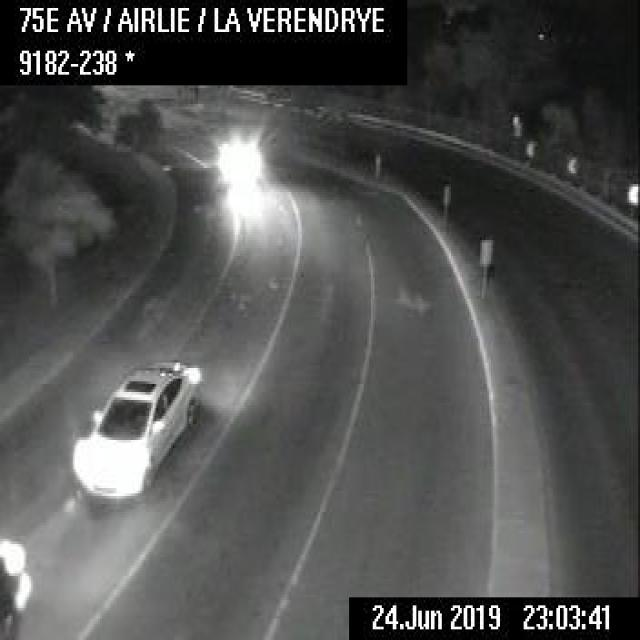vehicle: (66, 358, 204, 502), (0, 534, 35, 638)
